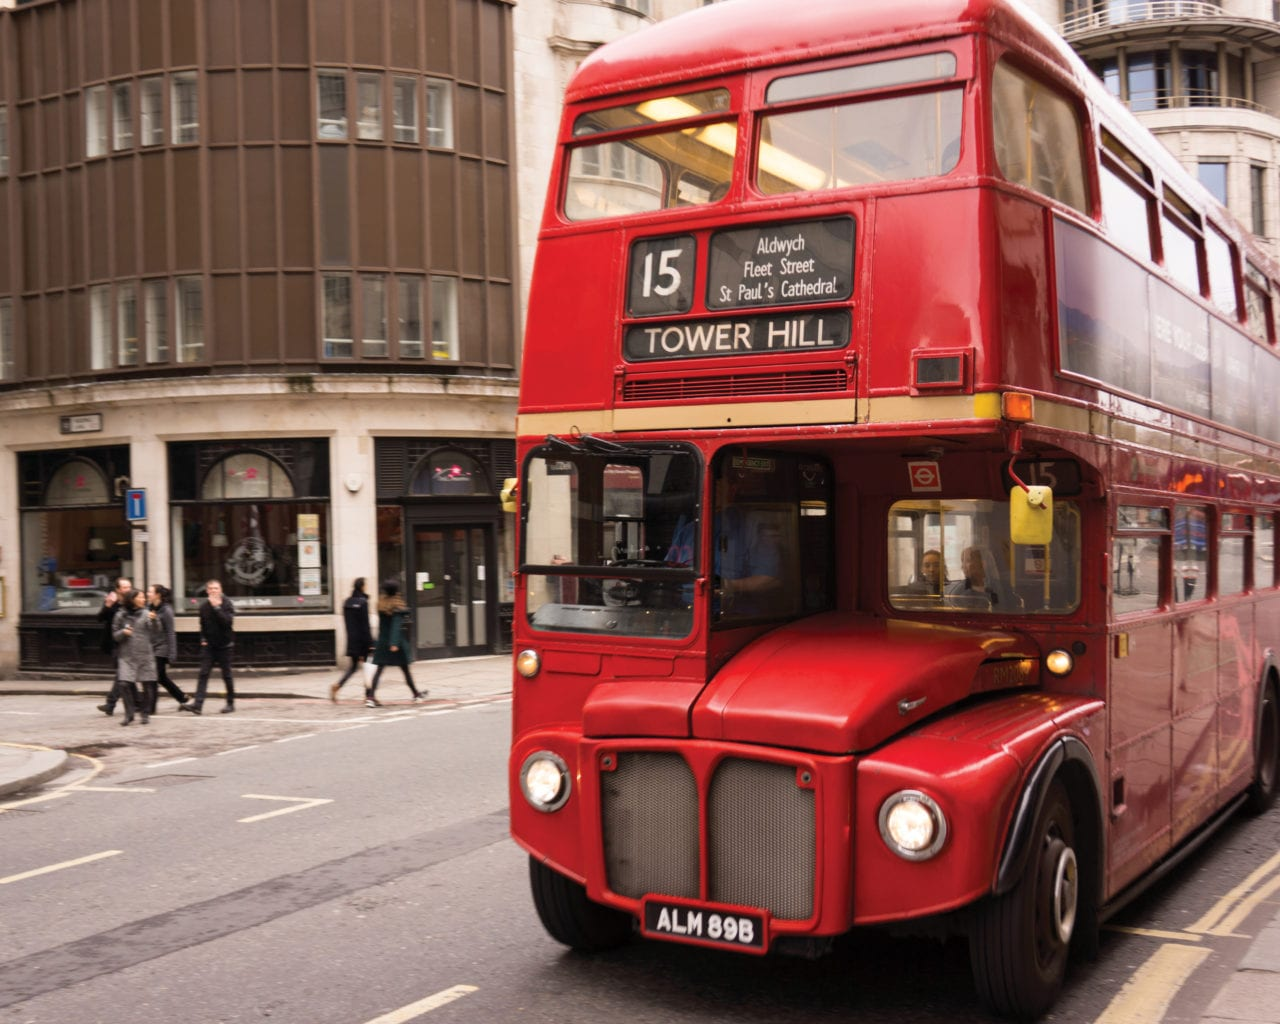red_busess: (508, 1, 1280, 1004)
